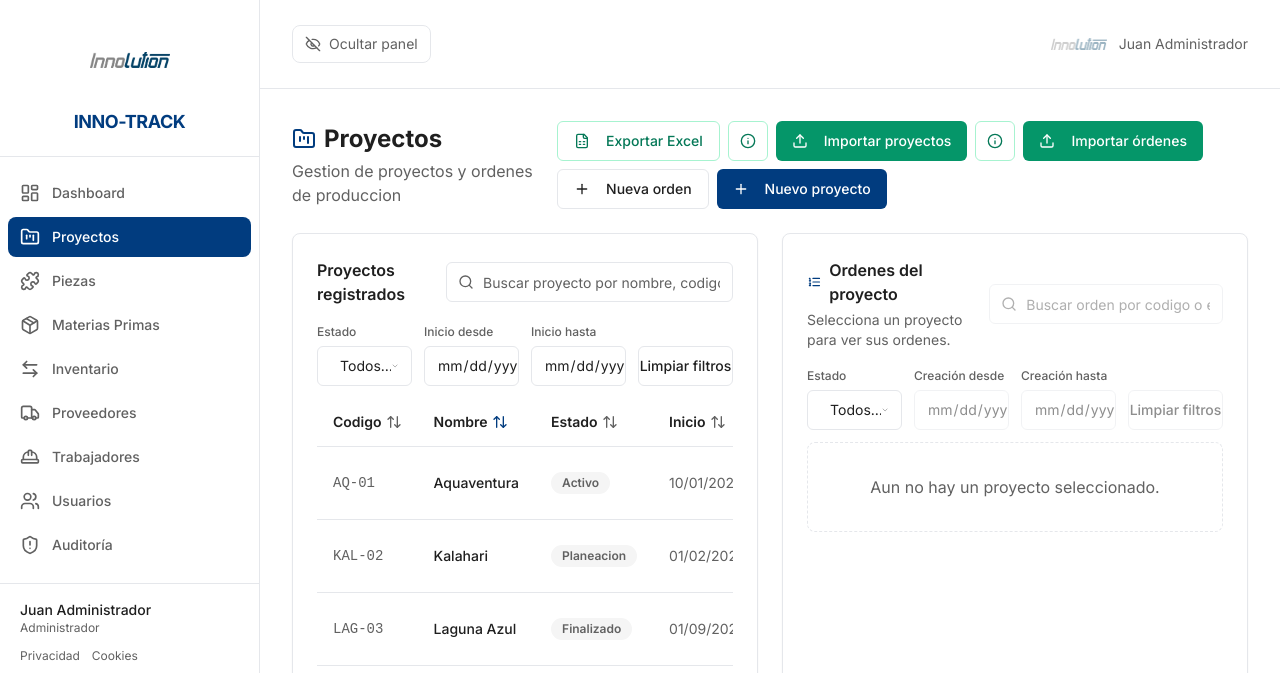
Test: Proyectos › muestra el dashboard del proyecto seleccionado y permite quitar la selección
Step 1. Click the text "Aquaventura" → point(476, 482), box [418,446,535,519]
(page scrolled)
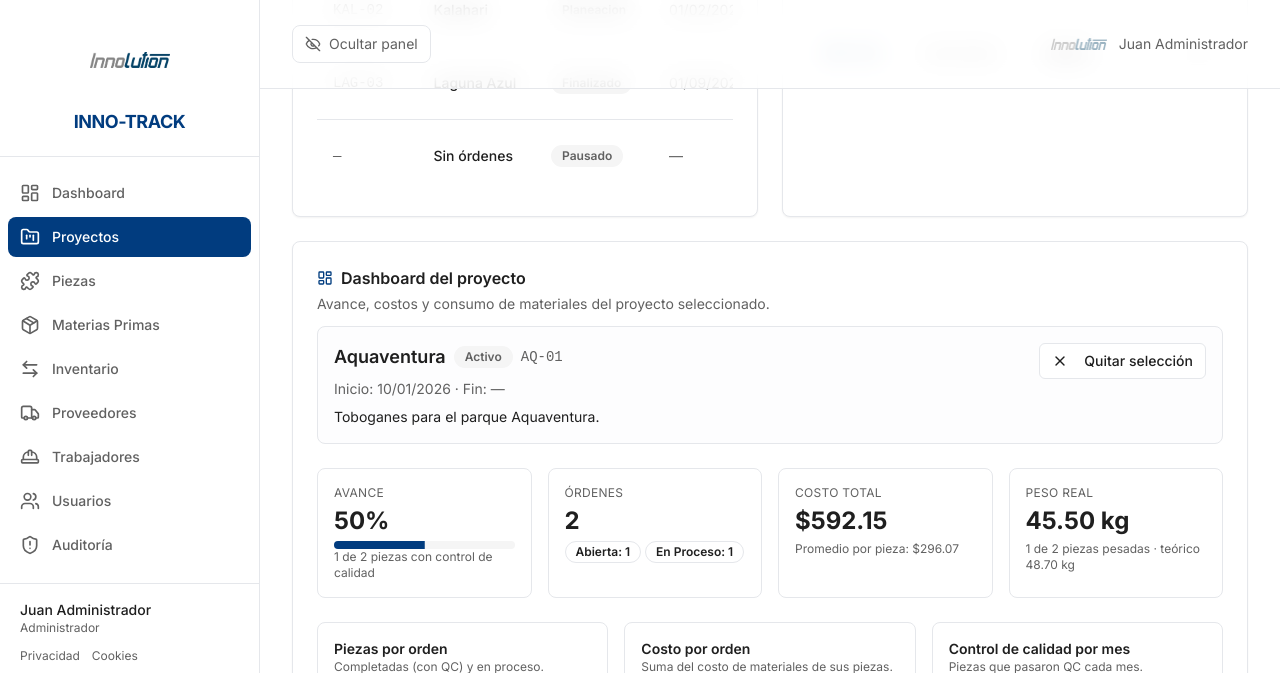
Step 2. Click the button "Quitar selección" → point(1123, 360), box [1039,342,1206,378]
(page scrolled)
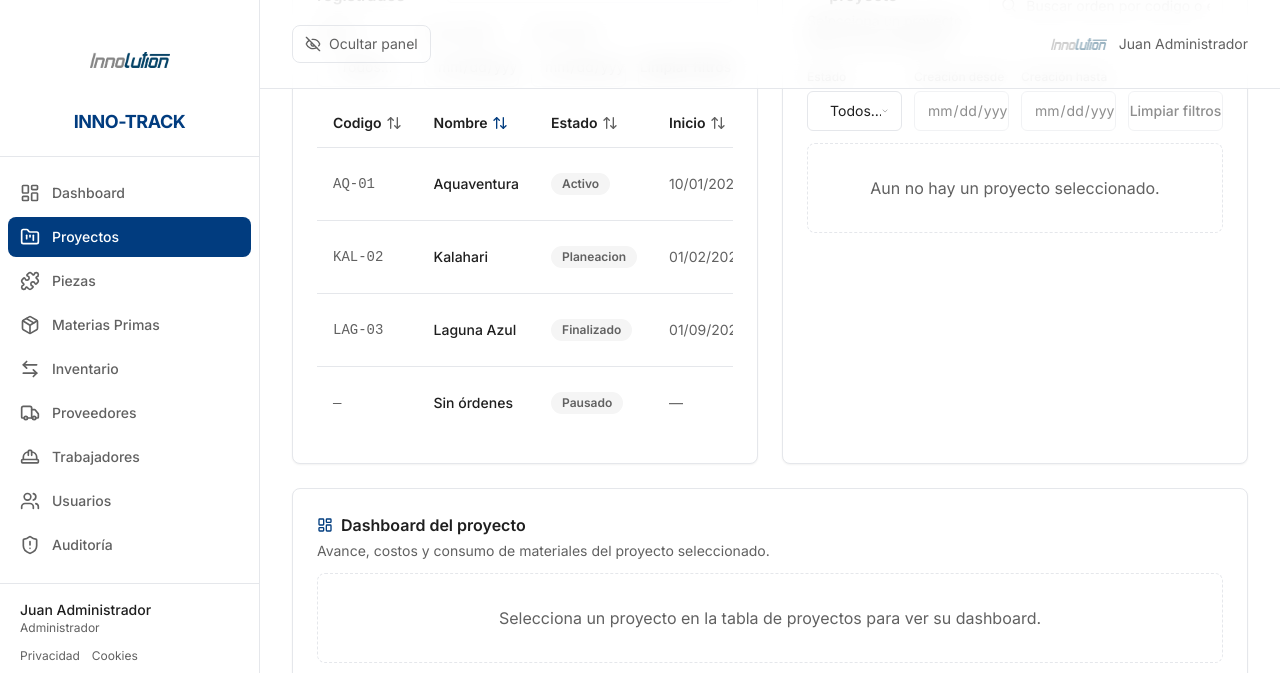
Now the text "Selecciona un proyecto en la tabla de proyectos para ver su dashboard." is shown, box [317,572,1223,662]
Now the text "Aun no hay un proyecto seleccionado." is shown, box [807,143,1223,233]
